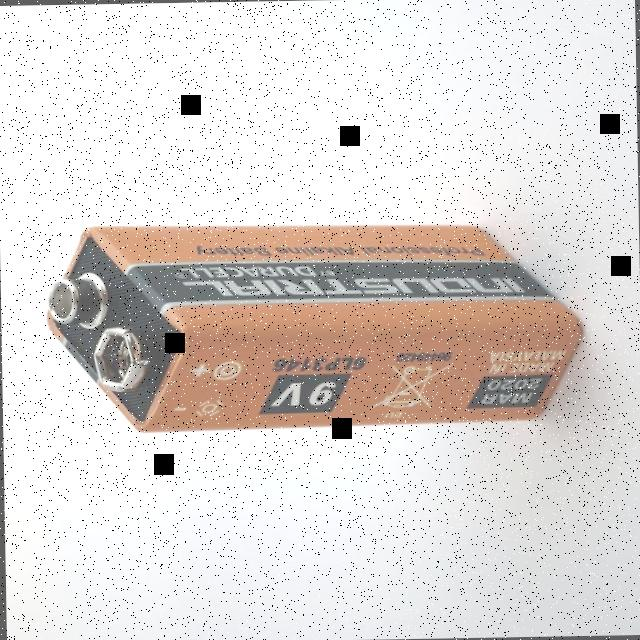battery: (44, 226, 582, 432)
